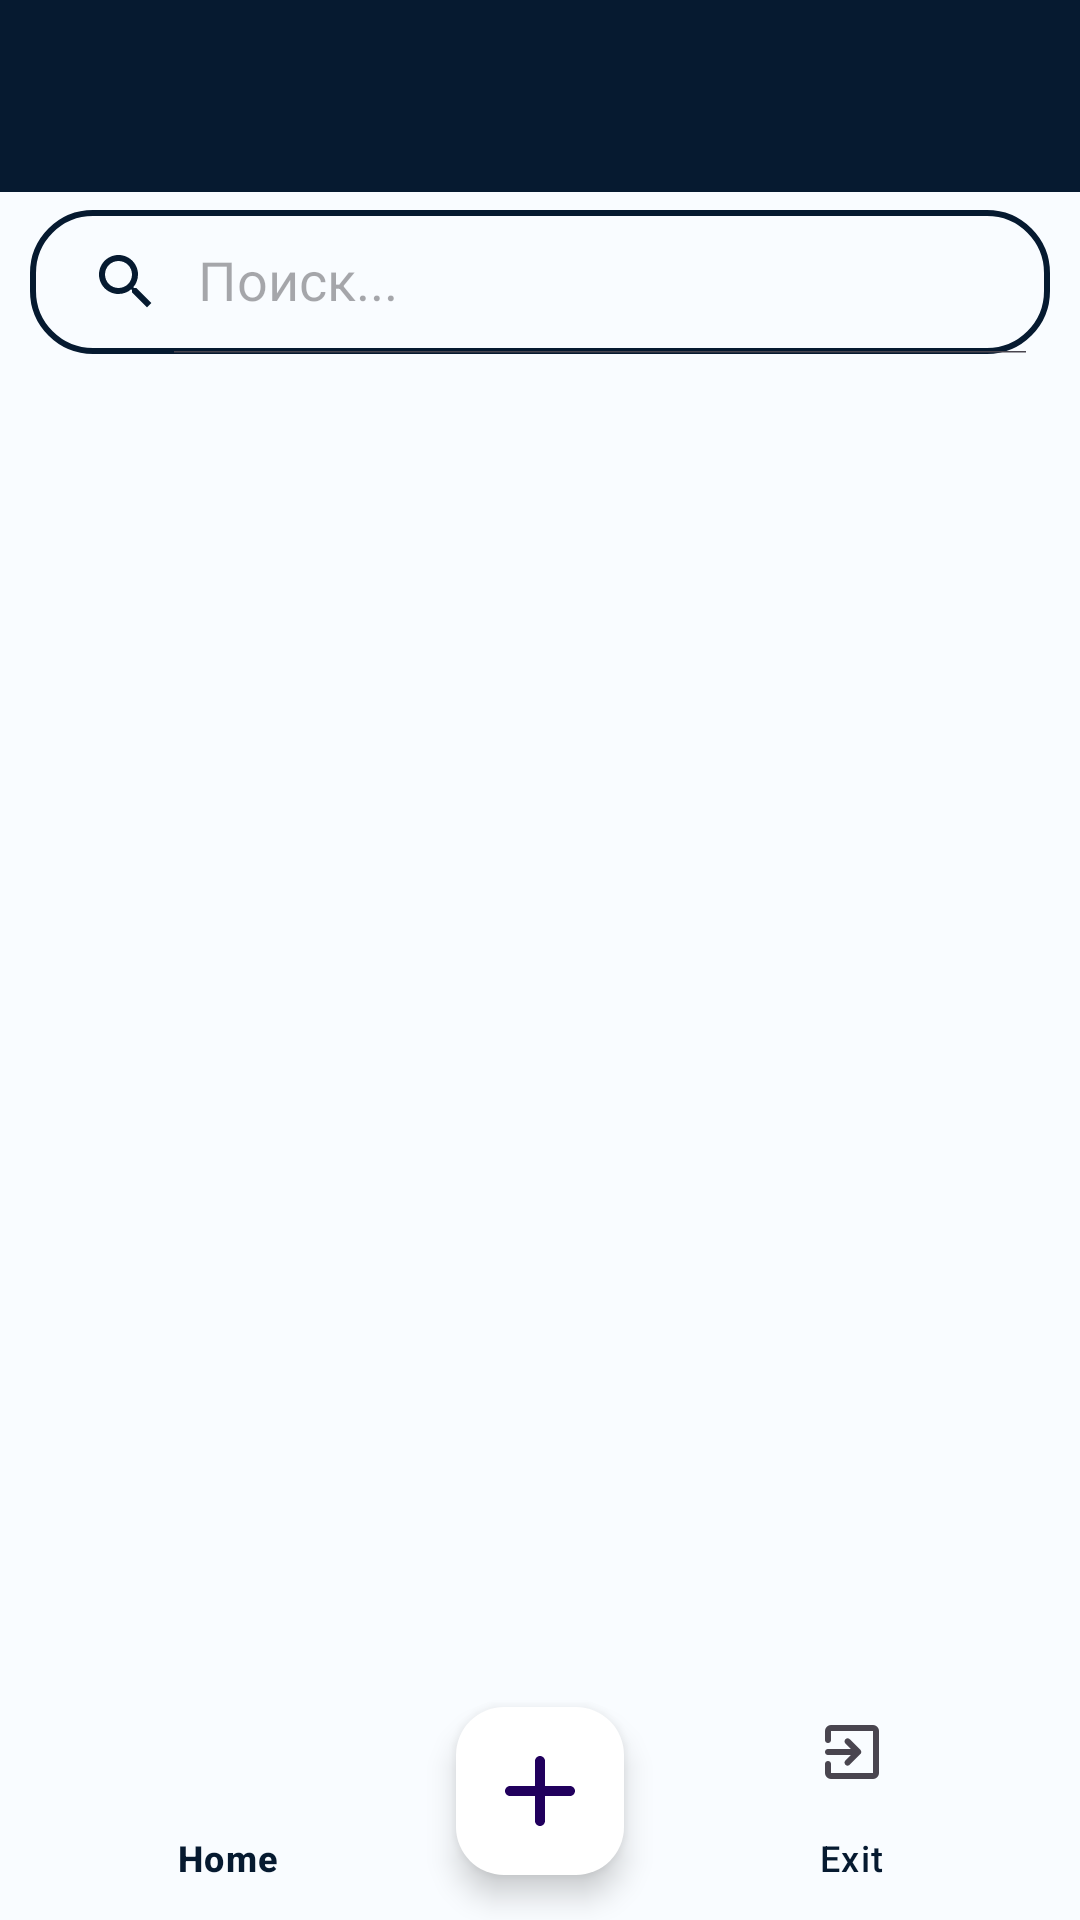

Point at icon controls on the screen. Image size 1080 × 1920, points as (x=x, y=y).
add: (x=540, y=1791)
